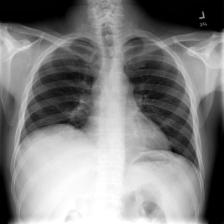normal: (9, 30, 203, 180)
